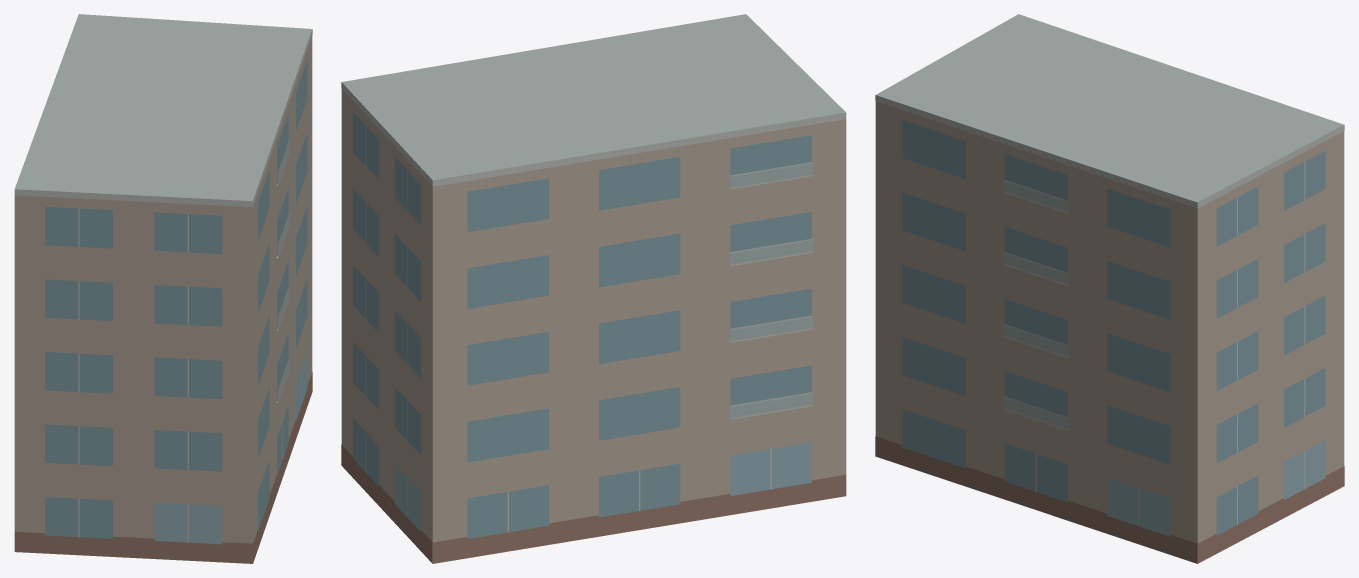
File: survey-upis-32884405.glb
3 renders of one model, left to right at view 1: azimuth 30°, elevation 25°; view 2: azimuth 150°, elevation 25°; view 3: azimuth 270°, elevation 25°, orthographic. The views are drawn at different scales.
Parts seen in each view (by area): view 1: survey-upis-32884405.tmp; view 2: survey-upis-32884405.tmp; view 3: survey-upis-32884405.tmp.
Boxes of the visible parts, x1,y1,x2,y2 form: survey-upis-32884405.tmp: (14, 14, 312, 563); survey-upis-32884405.tmp: (341, 14, 846, 563); survey-upis-32884405.tmp: (875, 14, 1344, 563).
Bounding box in the file's own units: 16.11 × 14.4 × 16.94.
